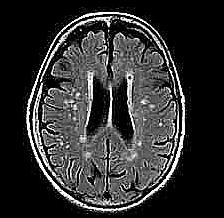Normal_Brain: (4, 1, 224, 218)
